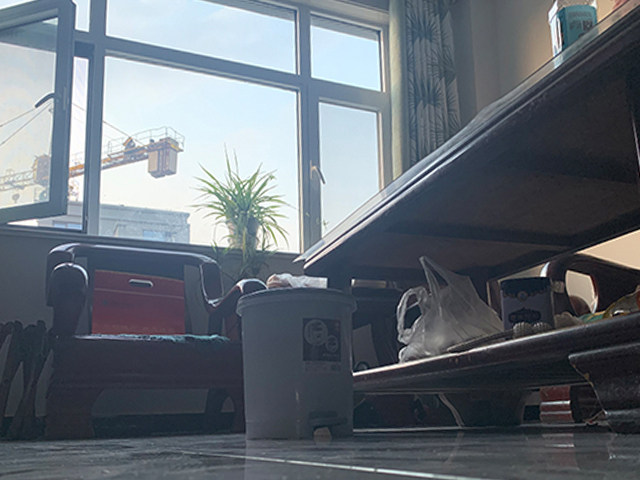sofa: (45, 241, 267, 440)
stool: (1, 317, 49, 443)
table: (291, 1, 640, 434)
trashcan: (237, 287, 356, 442)
